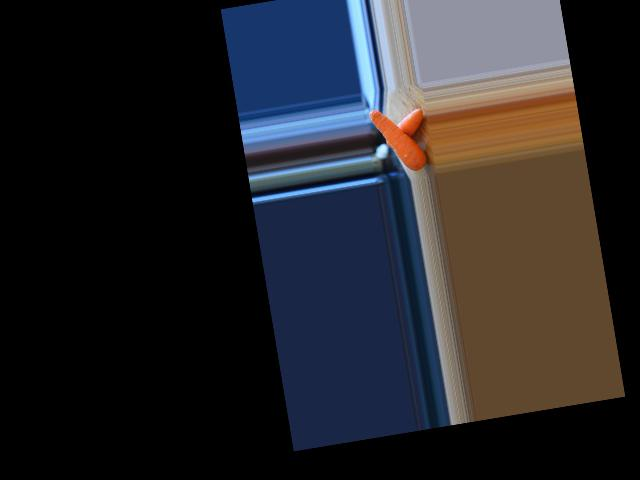carrot: (382, 110, 427, 149)
